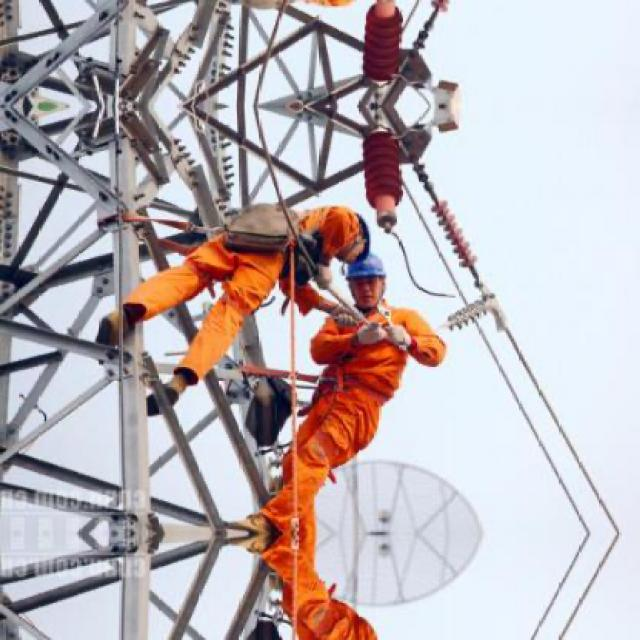helmet: (344, 244, 396, 313), (319, 207, 366, 259)
